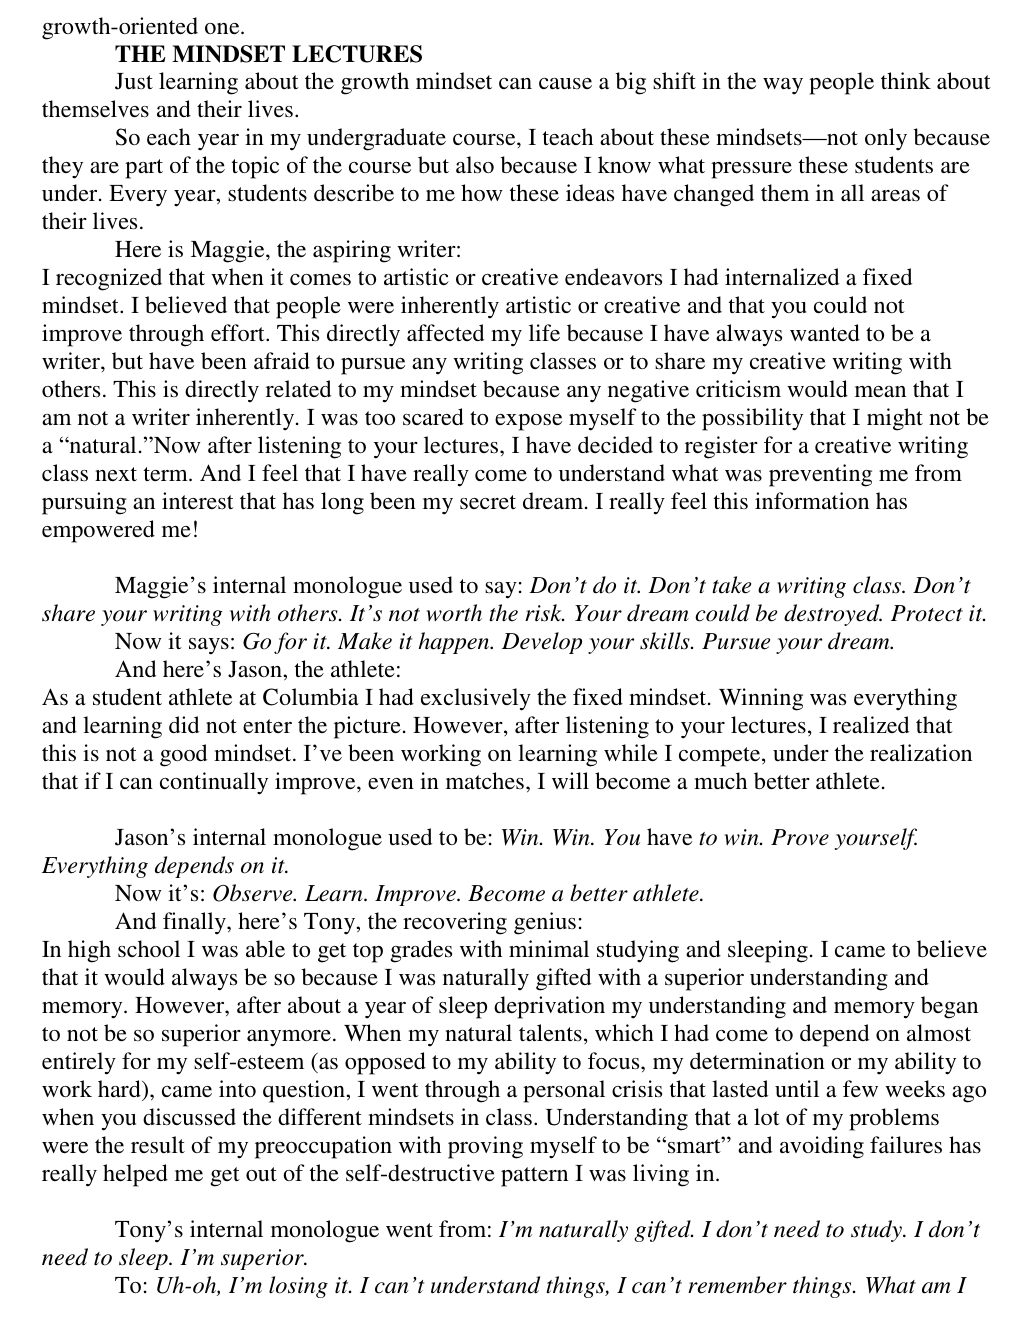latin: (34, 827, 992, 1195), (36, 234, 998, 543), (39, 14, 995, 234), (38, 577, 991, 796), (37, 1220, 984, 1304)
